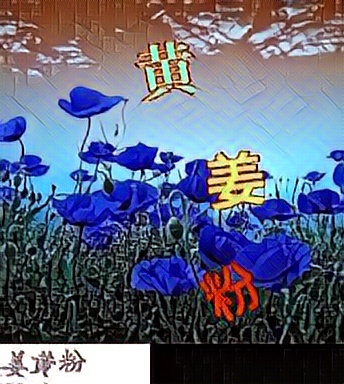B7DB: (194, 258, 259, 322)
BBC6: (134, 38, 199, 102)
BDAA: (202, 147, 267, 211)
